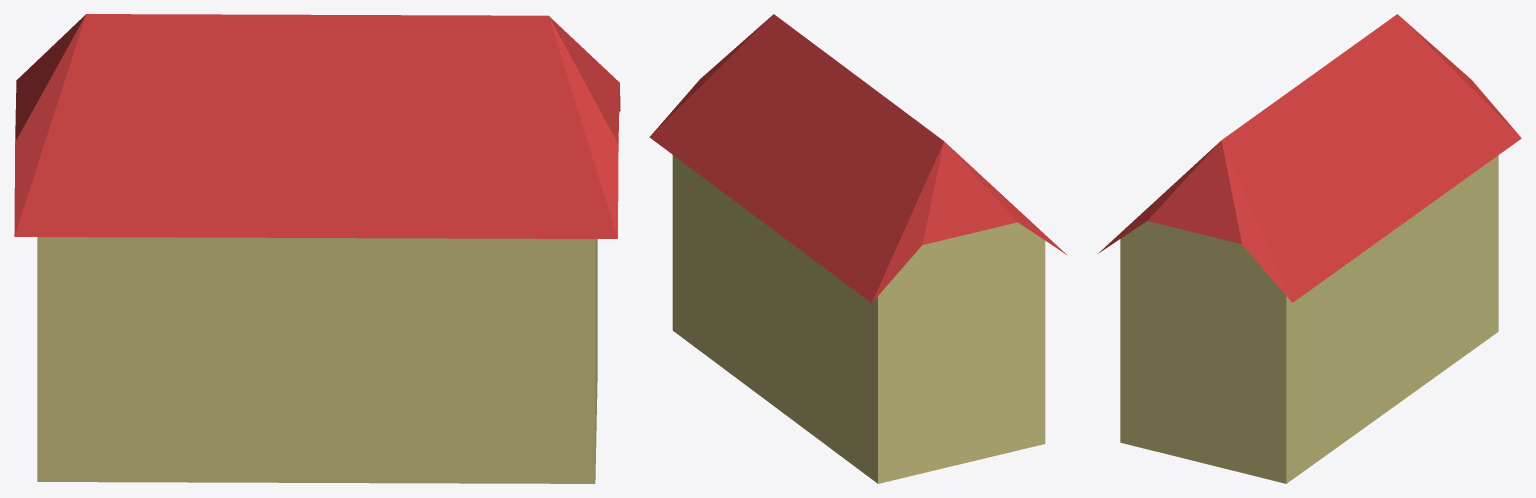
3 renders of one model, left to right at view 1: azimuth 30°, elevation 25°; view 2: azimuth 150°, elevation 25°; view 3: azimuth 270°, elevation 25°, orthographic. The views are drawn at different scales.
Parts seen in each view (by area): view 1: group_5, group_3, group_4; view 2: group_5, group_3, group_4; view 3: group_5, group_3, group_4.
Part boxes in pixels (left/top/right/bottom): group_5: left=37, top=237, right=597, bottom=483; group_3: left=14, top=14, right=619, bottom=238; group_4: left=14, top=77, right=620, bottom=238; group_5: left=672, top=155, right=1045, bottom=483; group_3: left=649, top=14, right=1067, bottom=302; group_4: left=845, top=196, right=1017, bottom=302; group_5: left=1120, top=155, right=1498, bottom=483; group_3: left=1138, top=14, right=1521, bottom=302; group_4: left=1098, top=60, right=1520, bottom=253.
Bounding box in the file's own units: 22.25 × 18.73 × 15.09.
